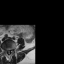CCS_normal: (8, 48, 9, 55)
LFS_severe_stenosis: (11, 48, 12, 51)
LLS_severe_stenosis: (9, 48, 11, 53)
RFS_severe_stenosis: (5, 48, 7, 52)
RLS_stenosis: (7, 48, 8, 53)
